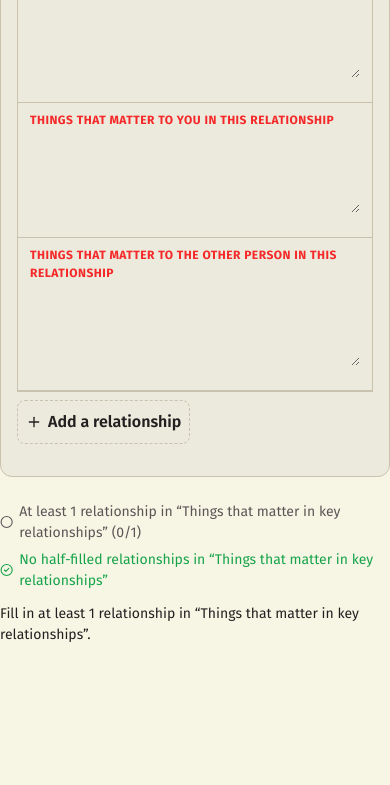
Test: guidance on a LEP worksheet › lets the learner add a row to a table they write
(page scrolled)
Click the button "Add a relationship".
click(104, 422)  # box x1=17 y1=400 x2=190 y2=444
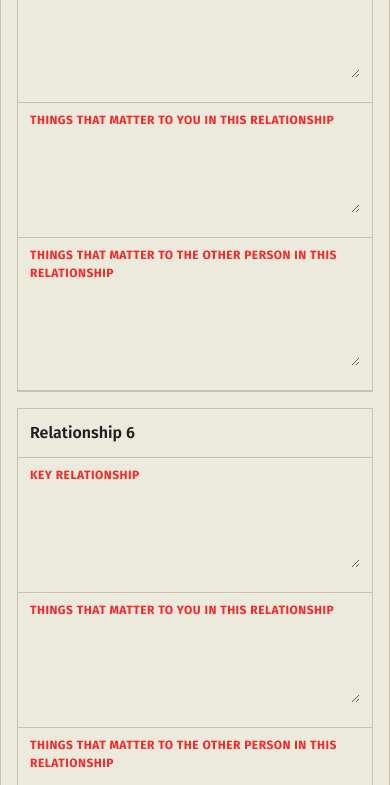
Check: the text box named "Relationship 6 — Key relationship" is shown, box x1=30 y1=496 x2=360 y2=568
